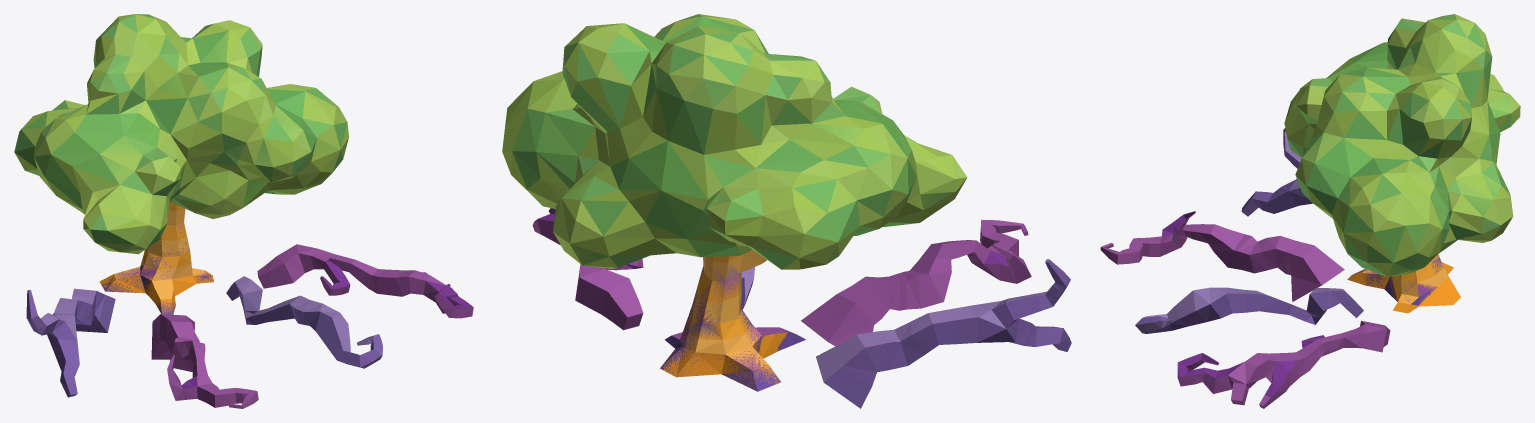
File: 3D-Arbol-y-Raices.fbx
The picture shows the model from 3 angles, left to right: view 1: azimuth 30°, elevation 25°; view 2: azimuth 150°, elevation 25°; view 3: azimuth 270°, elevation 25°; orthographic projection. The views are drawn at different scales.
Visible parts, largest first — view 1: Copa arbol, Tronco-Sano, Raiz1.1, Raiz2.1, Raiz4.4, Tronco-Enfermo, Raiz3.2, Raiz4.3, Raiz4.2, Raiz2.4, Raiz4.1, Raiz3.1 (+7 smaller); view 2: Copa arbol, Tronco-Sano, Tronco-Enfermo, Raiz1.1, Raiz2.4, Raiz4.4, Raiz1.4, Raiz2.1, Raiz1.2, Raiz2.3, Raiz1.3, Raiz2.2; view 3: Copa arbol, Raiz2.4, Tronco-Sano, Raiz4.1, Raiz3.2, Raiz4.2, Raiz2.1, Raiz1.1, Raiz2.3, Raiz3.4, Raiz4.4, Raiz2.2 (+4 smaller).
Part boxes in pixels (<box>): Copa arbol: <box>14,14,348,254</box>; Tronco-Sano: <box>99,202,214,313</box>; Raiz1.1: <box>26,290,79,397</box>; Raiz2.1: <box>167,355,258,408</box>; Raiz4.4: <box>257,244,334,288</box>; Tronco-Enfermo: <box>101,223,213,314</box>; Raiz3.2: <box>294,300,350,347</box>; Raiz4.3: <box>320,254,377,295</box>; Raiz4.2: <box>368,269,428,296</box>; Raiz2.4: <box>151,314,194,359</box>; Raiz4.1: <box>423,275,473,318</box>; Raiz3.1: <box>328,334,382,368</box>; Copa arbol: <box>502,14,967,269</box>; Tronco-Sano: <box>662,250,787,389</box>; Tronco-Enfermo: <box>660,249,805,391</box>; Raiz1.1: <box>968,259,1071,351</box>; Raiz2.4: <box>801,276,899,346</box>; Raiz4.4: <box>575,264,643,330</box>; Raiz1.4: <box>816,335,876,408</box>; Raiz2.1: <box>972,219,1031,283</box>; Raiz1.2: <box>910,306,978,353</box>; Raiz2.3: <box>879,259,951,310</box>; Raiz1.3: <box>856,322,925,372</box>; Raiz2.2: <box>919,240,990,271</box>; Copa arbol: <box>1284,14,1520,276</box>; Raiz2.4: <box>1262,235,1344,301</box>; Tronco-Sano: <box>1347,254,1460,313</box>; Raiz4.1: <box>1177,353,1257,405</box>; Raiz3.2: <box>1176,287,1245,326</box>; Raiz4.2: <box>1245,352,1309,408</box>; Raiz2.1: <box>1100,211,1195,264</box>; Raiz1.1: <box>1241,128,1312,216</box>; Raiz2.3: <box>1214,230,1267,273</box>; Raiz3.4: <box>1297,288,1363,324</box>; Raiz4.4: <box>1340,320,1390,352</box>; Raiz2.2: <box>1171,224,1229,251</box>.
Bounding box in the file's own units: 2317 × 1526 × 1982.
Materials: 1 (1 with a texture image).
